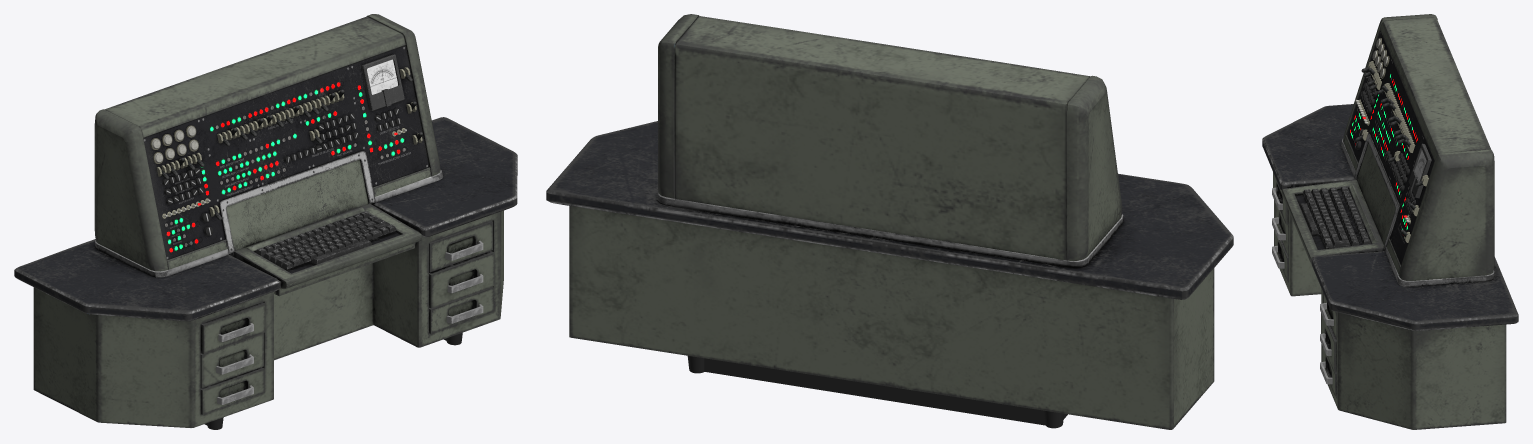
Rendered from univac_computer.glb.
The picture shows the model from 3 angles, left to right: view 1: azimuth 30°, elevation 25°; view 2: azimuth 150°, elevation 25°; view 3: azimuth 270°, elevation 25°; orthographic projection. The views are drawn at different scales.
Visible parts, largest first — view 1: computer, keyboard, Meter_panel; view 2: computer, Legs; view 3: computer, keyboard, Meter_panel.
Part boxes in pixels (<box>): computer: <box>14,14,517,427</box>; keyboard: <box>255,211,396,269</box>; Meter_panel: <box>361,54,404,110</box>; computer: <box>546,14,1233,429</box>; Legs: <box>687,356,1067,428</box>; computer: <box>1262,14,1518,429</box>; keyboard: <box>1300,186,1370,248</box>; Meter_panel: <box>1408,143,1431,198</box>.
Bounding box in the file's own units: 3.68 × 1.94 × 1.78.
Materials: 11 (11 with a texture image).
